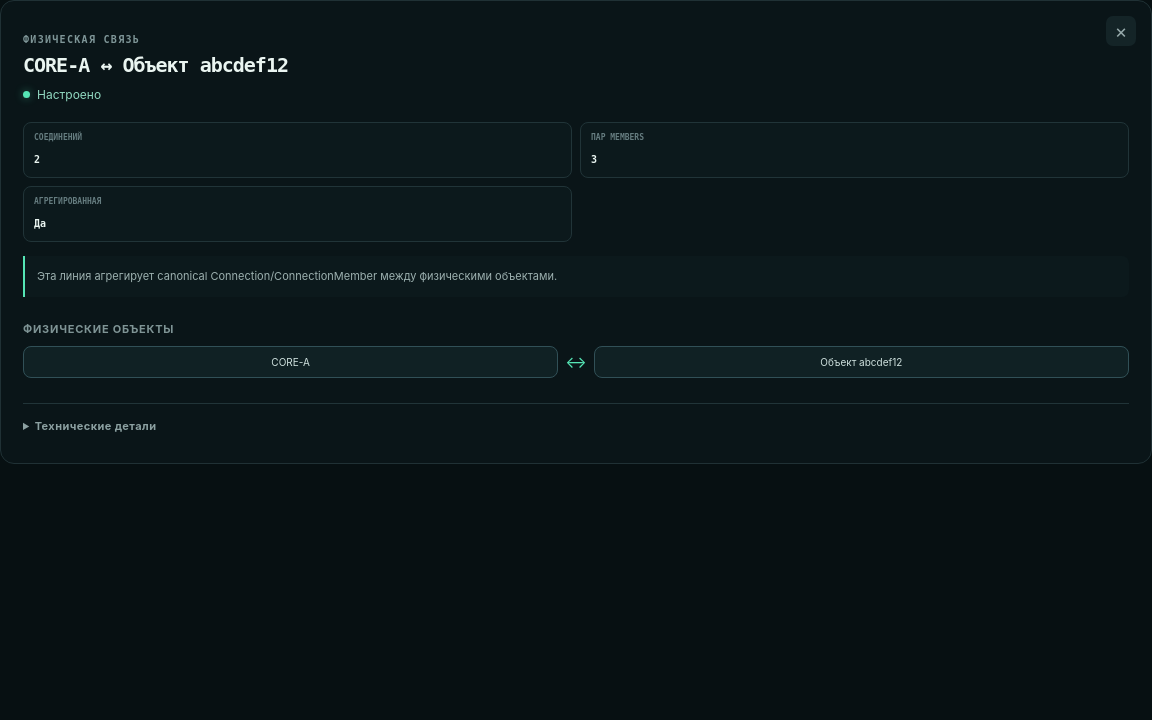
Test: Inspector › shows physical edge aggregation and canonical refs
This screenshot has width=1152, height=720.
Click the heading "Технические детали": [96, 426] box 35,419 -> 156,433
(page scrolled)
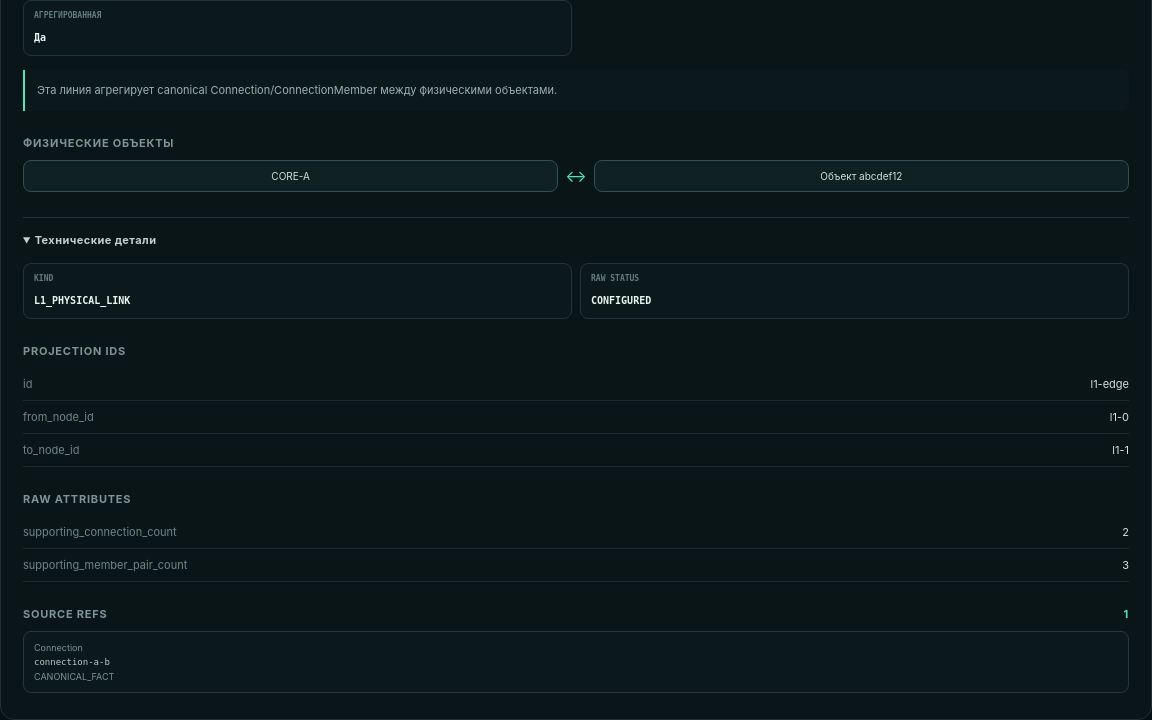
Expected: the text "Connection" is shown, 34,642 -> 83,653
